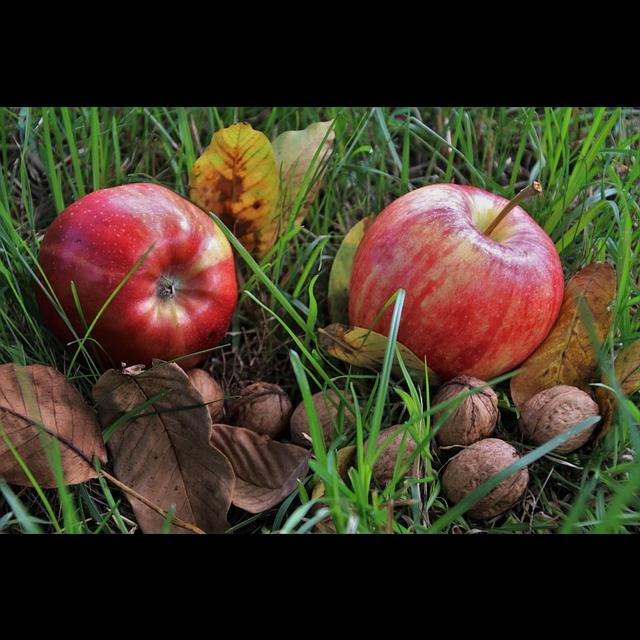Apel Segar: (343, 175, 574, 408), (32, 170, 254, 386)
